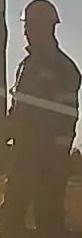helmet: (19, 0, 62, 24)
vest: (15, 52, 82, 177)
